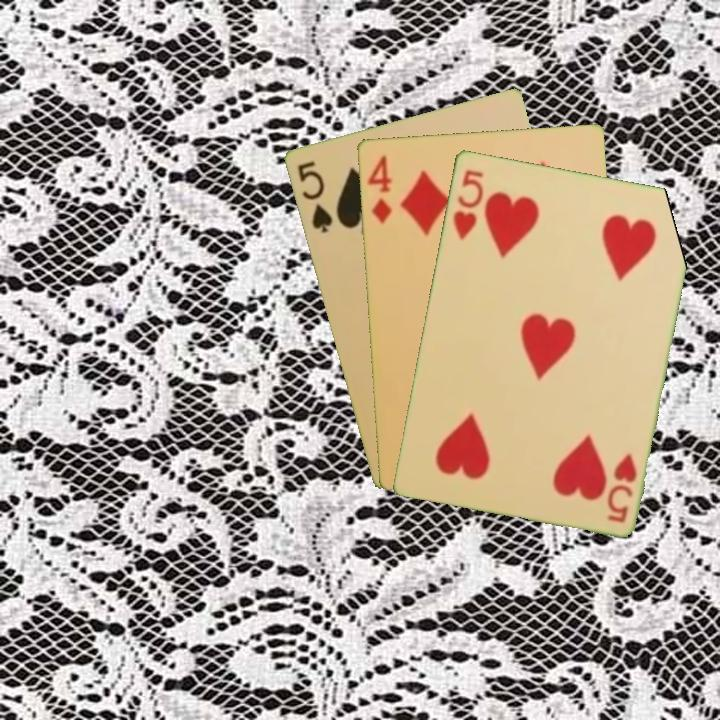4d: (363, 151, 395, 226)
5h: (449, 165, 486, 243), (603, 448, 640, 525)
5s: (293, 157, 335, 236)
